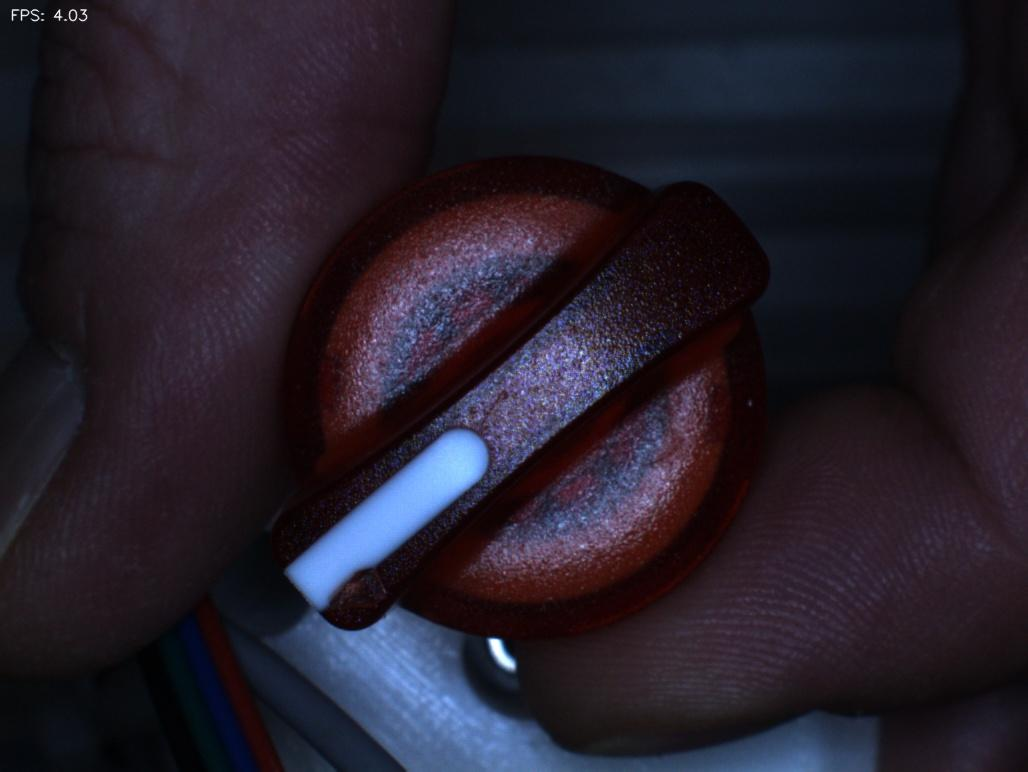Choc: (312, 554, 403, 650)
